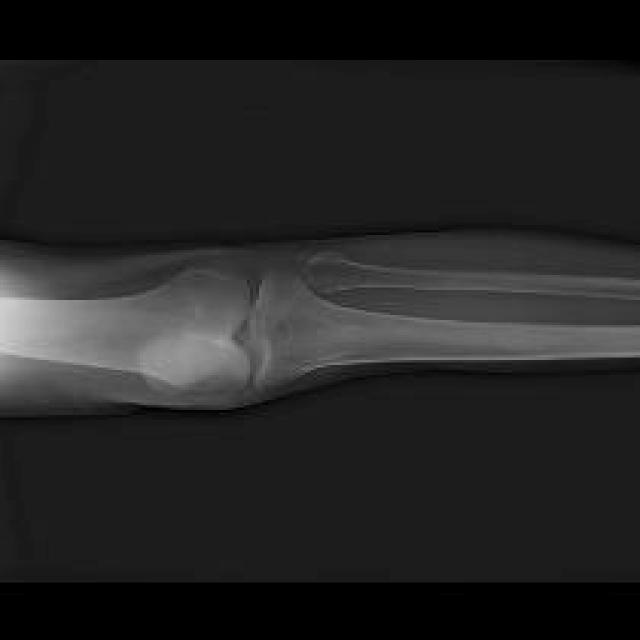normal: (2, 251, 638, 400)
